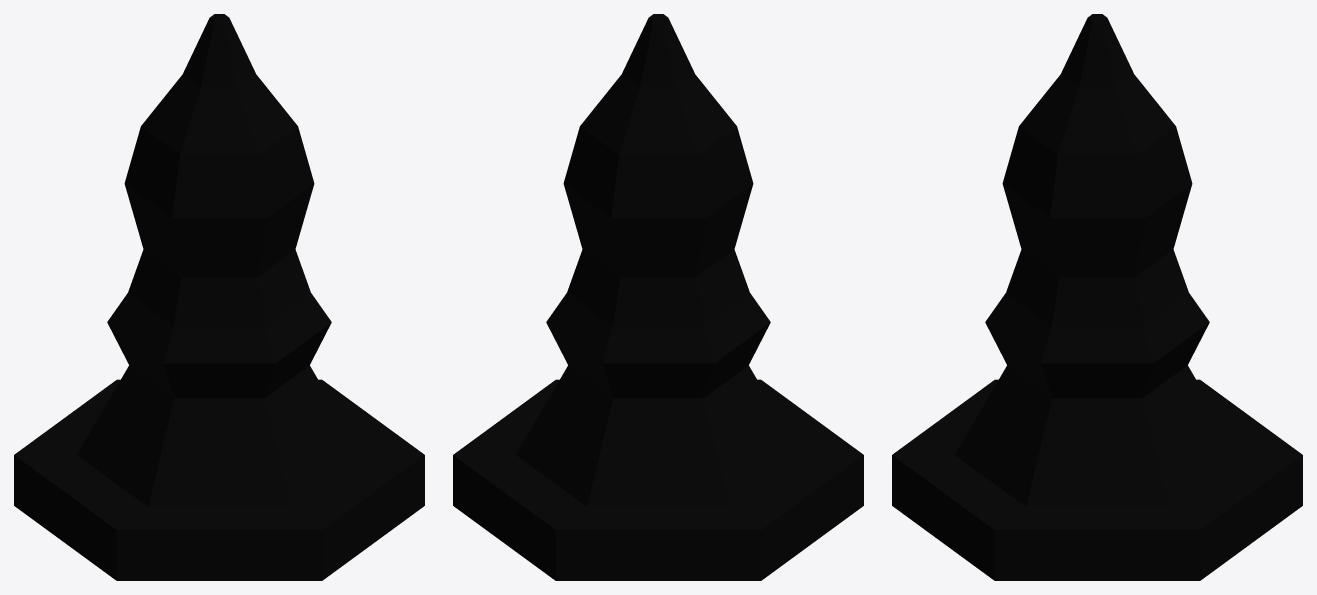
File: chesspiecebishop02.gltf
3 renders of one model, left to right at view 1: azimuth 30°, elevation 25°; view 2: azimuth 150°, elevation 25°; view 3: azimuth 270°, elevation 25°, orthographic.
Parts seen in each view (by area): view 1: Cylinder.003; view 2: Cylinder.003; view 3: Cylinder.003.
Part boxes in pixels (left/top/right/bottom): Cylinder.003: left=14, top=14, right=424, bottom=580; Cylinder.003: left=453, top=14, right=863, bottom=580; Cylinder.003: left=892, top=14, right=1302, bottom=580.
Size of the model in its own units: 0.0225 by 0.0341 by 0.026.
1 material, 1 textured.
